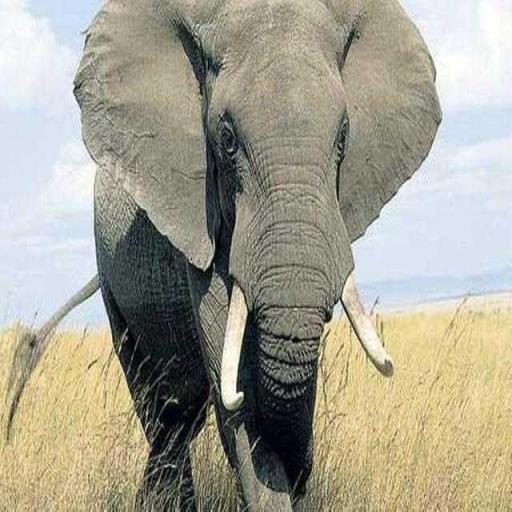Elephant: (1, 0, 442, 510)
